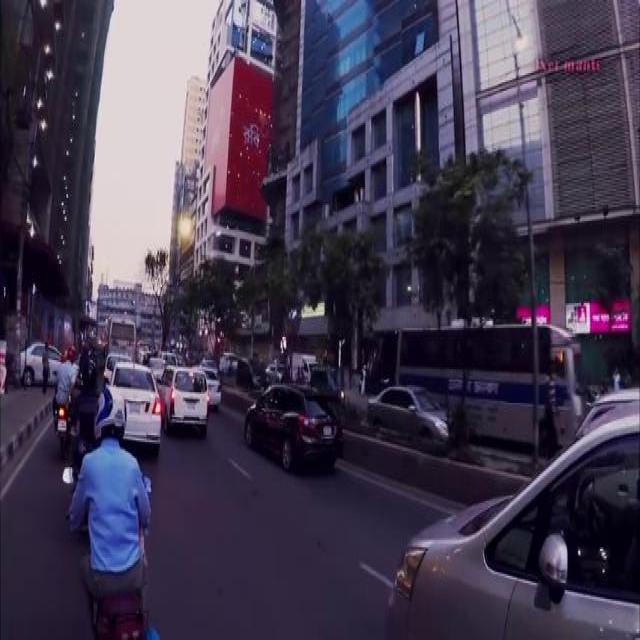bus: (394, 322, 580, 436), (104, 312, 136, 357)
car: (242, 382, 344, 472), (366, 382, 448, 440), (108, 357, 160, 443), (156, 365, 208, 432), (18, 339, 58, 383), (204, 364, 220, 404)
minivan: (389, 402, 639, 636)
motorbike: (61, 464, 150, 638), (52, 394, 70, 446)
pickup: (290, 349, 316, 380)
